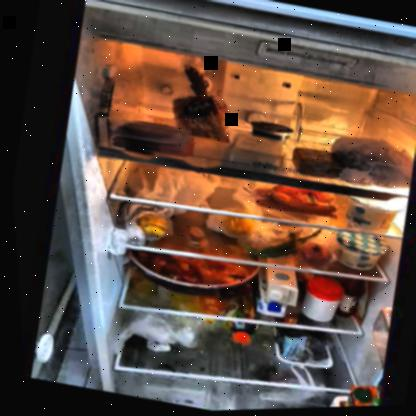butter: (286, 146, 341, 183)
carrot: (253, 180, 338, 222)
cheese: (225, 133, 283, 167)
lemon: (129, 210, 170, 242), (219, 213, 253, 241)
milk: (246, 268, 297, 322)
salami: (117, 118, 189, 155)
yoghurt: (329, 230, 388, 277), (339, 196, 397, 235), (248, 119, 292, 144)
